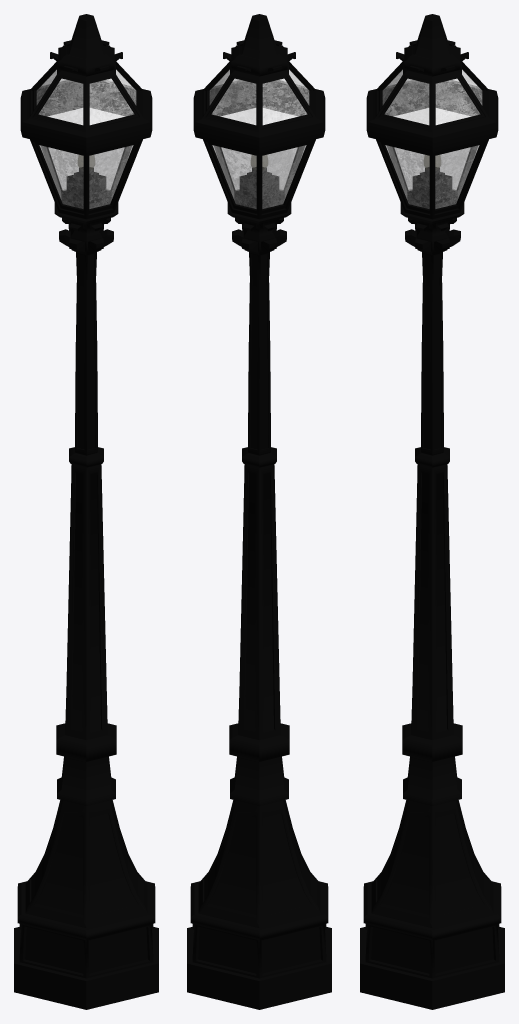
3 renders of one model, left to right at view 1: azimuth 30°, elevation 25°; view 2: azimuth 150°, elevation 25°; view 3: azimuth 270°, elevation 25°, orthographic.
Parts seen in each view (by area): view 1: Lamp post.001; view 2: Lamp post.001; view 3: Lamp post.001.
Boxes of the visible parts, box(x1,y1,x2,y2) form: Lamp post.001: box(14, 14, 158, 1009); Lamp post.001: box(187, 14, 331, 1009); Lamp post.001: box(360, 14, 504, 1009).
Bounding box in the file's own units: 0.4672 × 2.95 × 0.4046.
3 materials, 1 textured.
